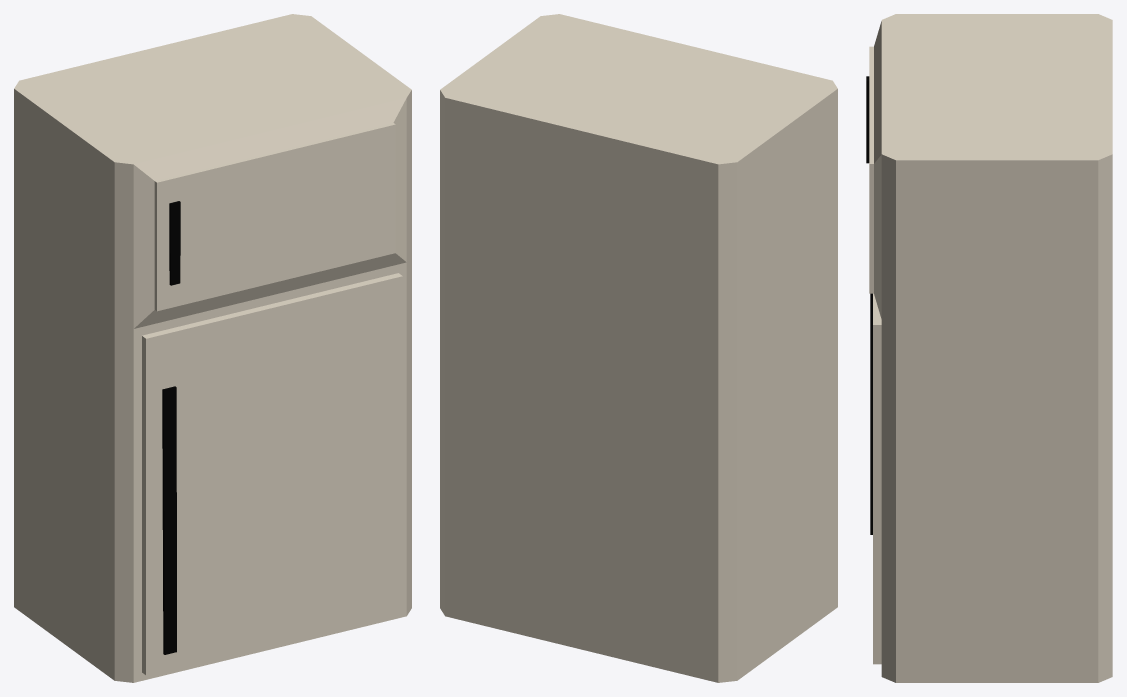
File: TuLanh.fbx
3 renders of one model, left to right at view 1: azimuth 30°, elevation 25°; view 2: azimuth 150°, elevation 25°; view 3: azimuth 270°, elevation 25°, orthographic.
Visible parts, largest first — view 1: Cube; view 2: Cube; view 3: Cube.
Part boxes in pixels (x1,y1,x2,y2): Cube: (14,14,411,682); Cube: (440,14,837,682); Cube: (866,14,1112,682).
Size of the model in its own units: 600 by 1000 by 427.
